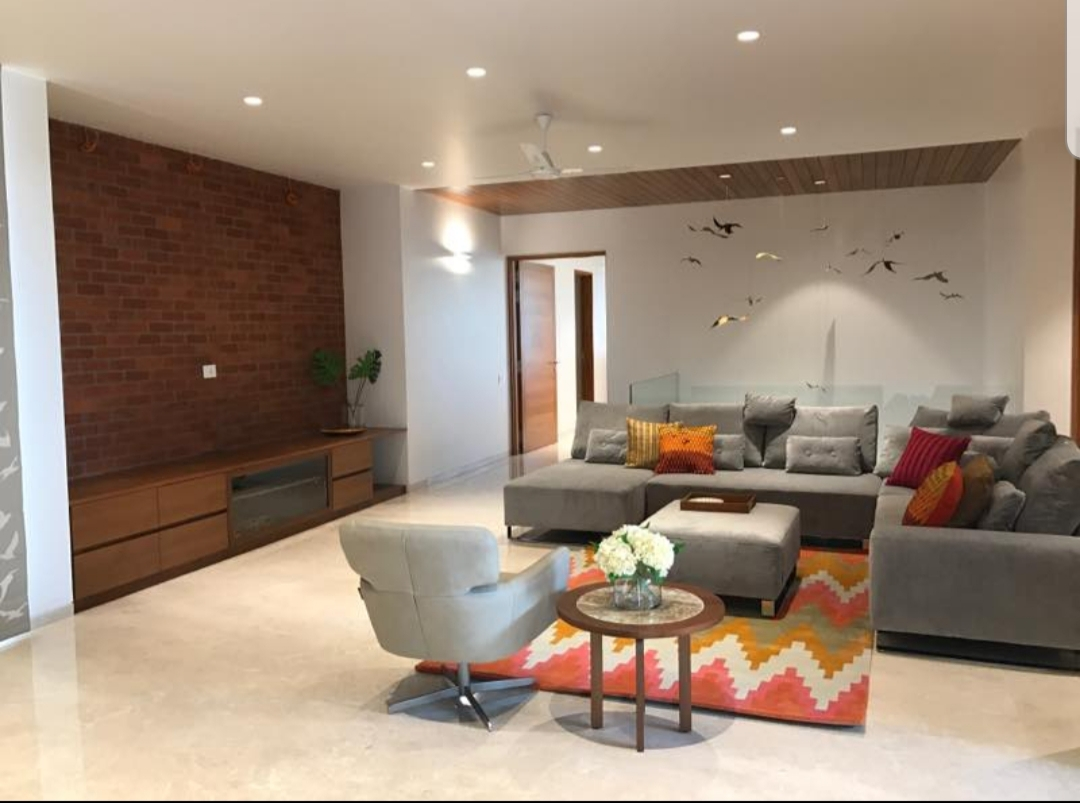coklat: (557, 580, 723, 734), (681, 491, 756, 514)
merah: (906, 427, 952, 473)
putih: (601, 538, 633, 570)
